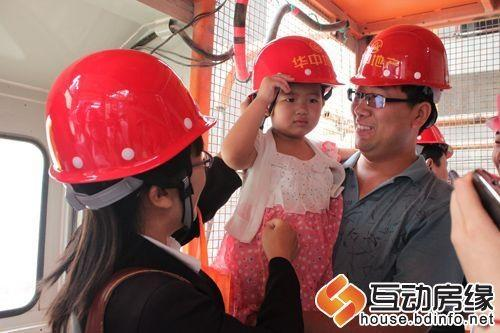helmet: (44, 49, 219, 227), (348, 23, 453, 155), (250, 34, 346, 136)
not_reflective: (322, 145, 488, 307), (33, 221, 258, 331), (223, 127, 340, 252)
